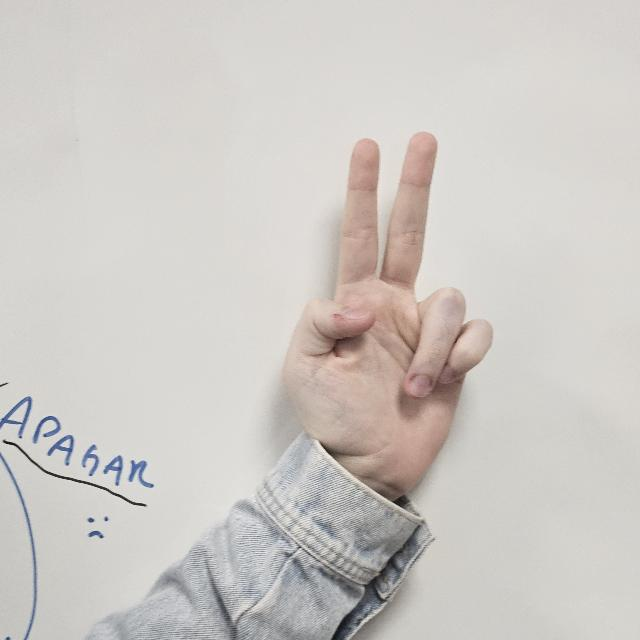Triangulo: (284, 127, 493, 497)
